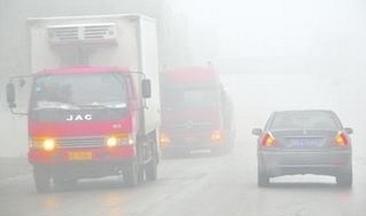bus: (3, 10, 162, 193), (137, 60, 235, 158)
car: (251, 108, 354, 189)
